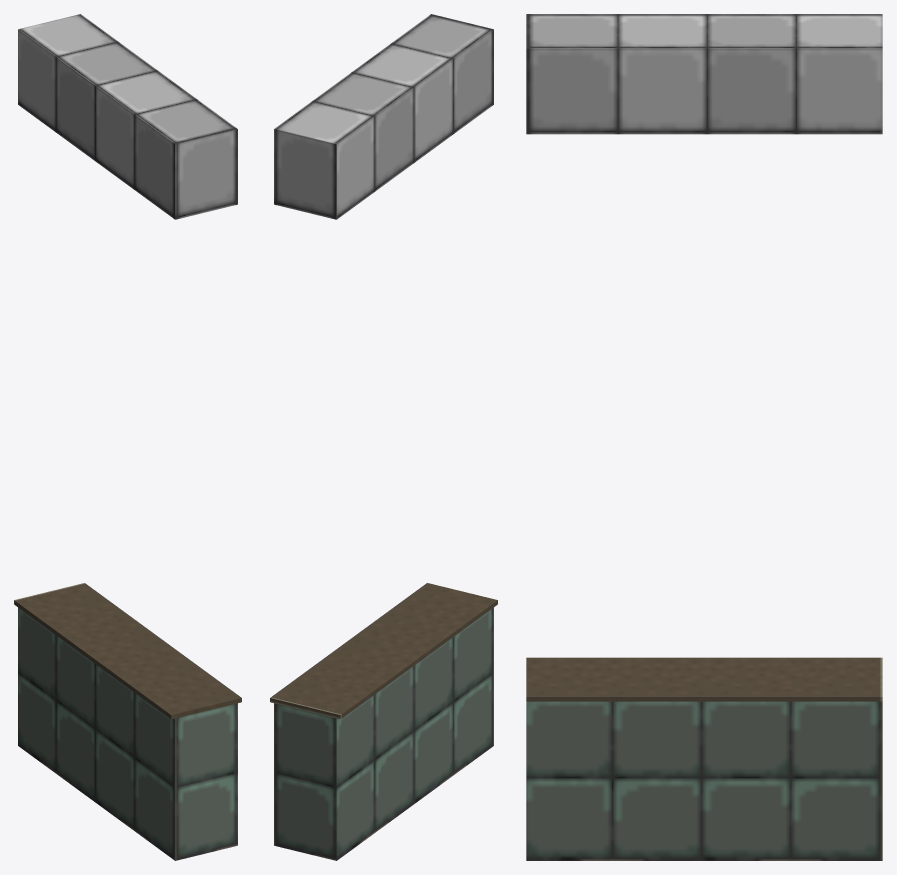
The model's file is obj_wallOpen_1x2m_v4.fbx.
3 renders of one model, left to right at view 1: azimuth 30°, elevation 25°; view 2: azimuth 150°, elevation 25°; view 3: azimuth 270°, elevation 25°, orthographic. The views are drawn at different scales.
Parts seen in each view (by area): view 1: obj_wallOpen_1x2m_v4; view 2: obj_wallOpen_1x2m_v4; view 3: obj_wallOpen_1x2m_v4.
Boxes of the visible parts, bbox=[...] form: obj_wallOpen_1x2m_v4: bbox=[14, 14, 241, 860]; obj_wallOpen_1x2m_v4: bbox=[270, 14, 497, 860]; obj_wallOpen_1x2m_v4: bbox=[526, 14, 882, 860].
Size of the model in its own units: 25.98 by 252 by 100.
